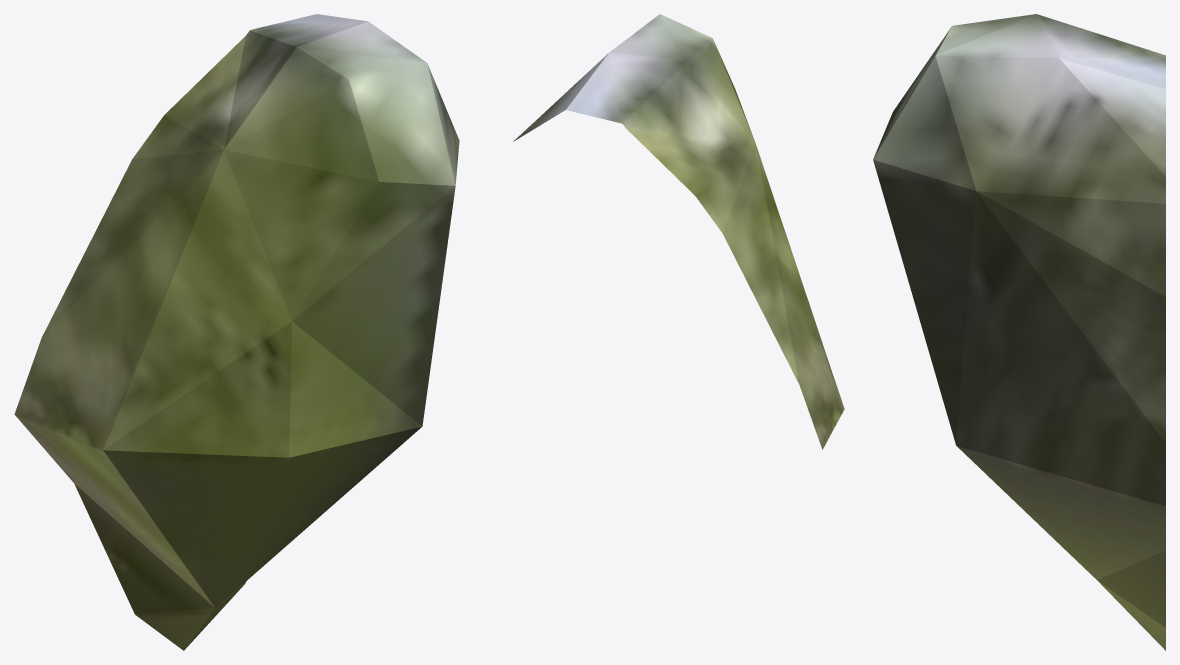
3 views of the same model, side by side, from view 1: azimuth 30°, elevation 25°; view 2: azimuth 150°, elevation 25°; view 3: azimuth 270°, elevation 25° (orthographic). The views are drawn at different scales.
Size of the model in its own units: 0.4597 by 0.7109 by 0.2847.
Materials: 1 (1 with a texture image).
